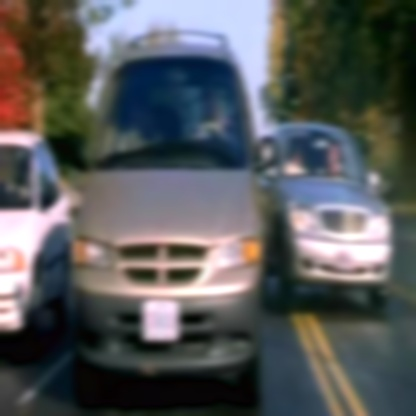Vehicle: (67, 16, 286, 414)
